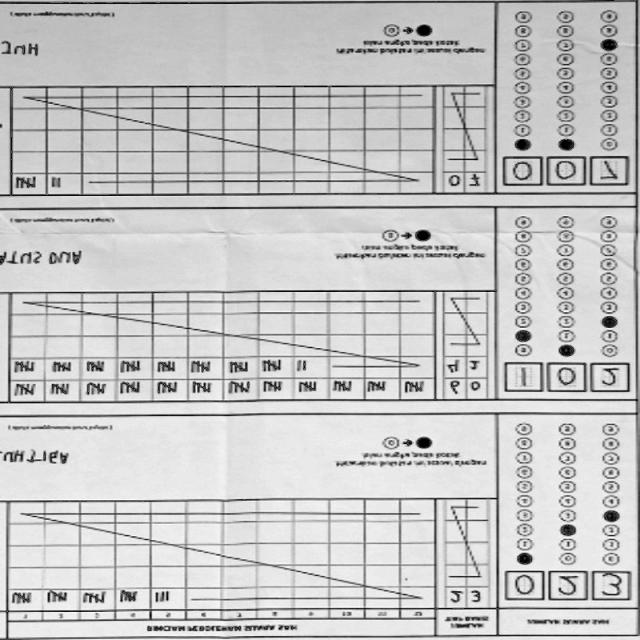Suara: (499, 359, 634, 399), (497, 152, 631, 192), (502, 567, 636, 607)
